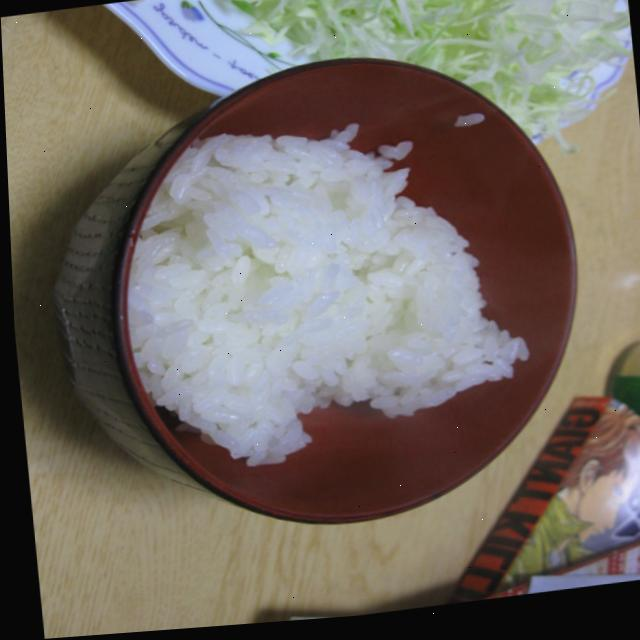米饭主食: (2, 21, 611, 598)
